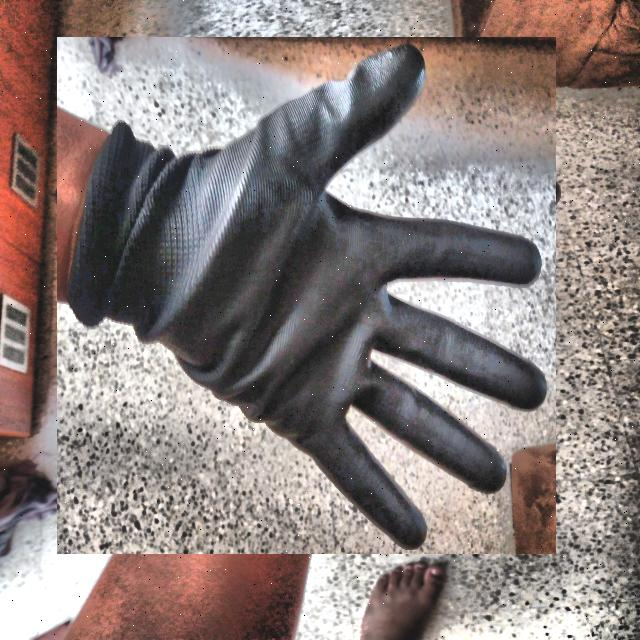gloved: (52, 42, 560, 550)
